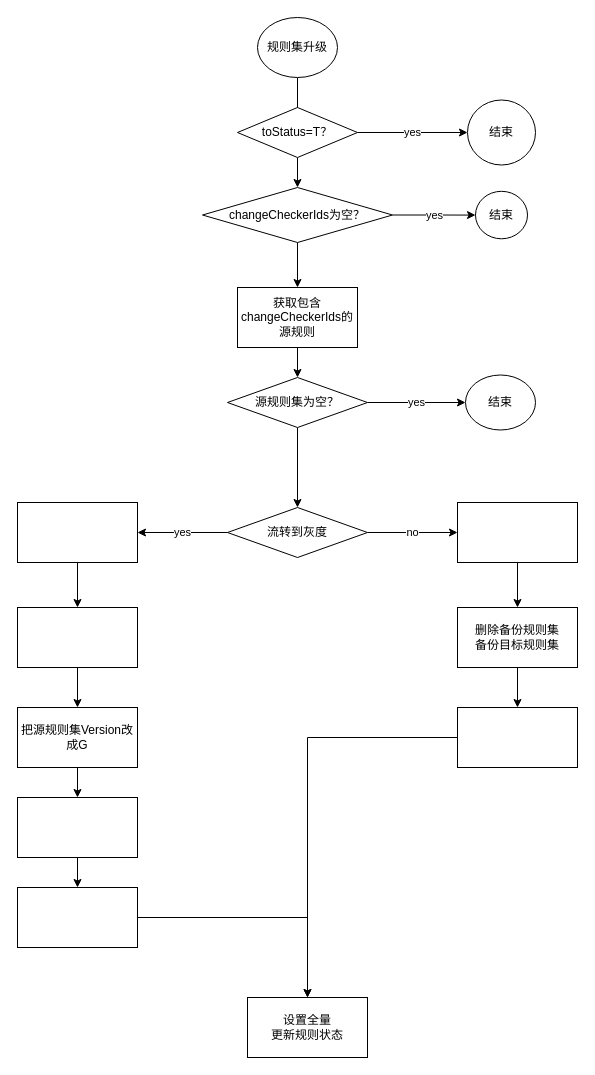
Some shapes in this 595 by 1075 pixel diagram are drawn without their labels. The box of each missing label's shape, as (x1, y1, x2, y2) in pixels:
保存源规则集: (16, 886, 138, 948)
删除上述目标规则集: (16, 796, 138, 858)
删除旧的备份规则集 备份目标规则集: (16, 606, 138, 668)
根据源规则集id 查出对应目标规则集: (16, 502, 138, 562)
根据源规则集key， 找出version最大的现网目标规则集: (456, 502, 578, 562)
目标规则集version+1: (456, 706, 578, 768)
